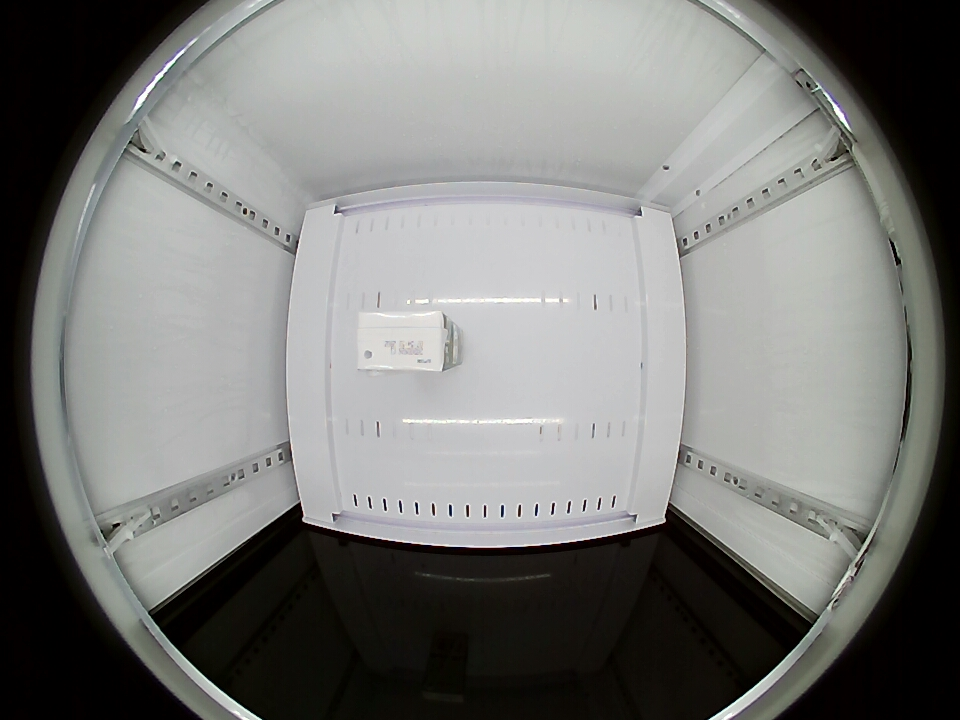jindian: (356, 309, 457, 373)
